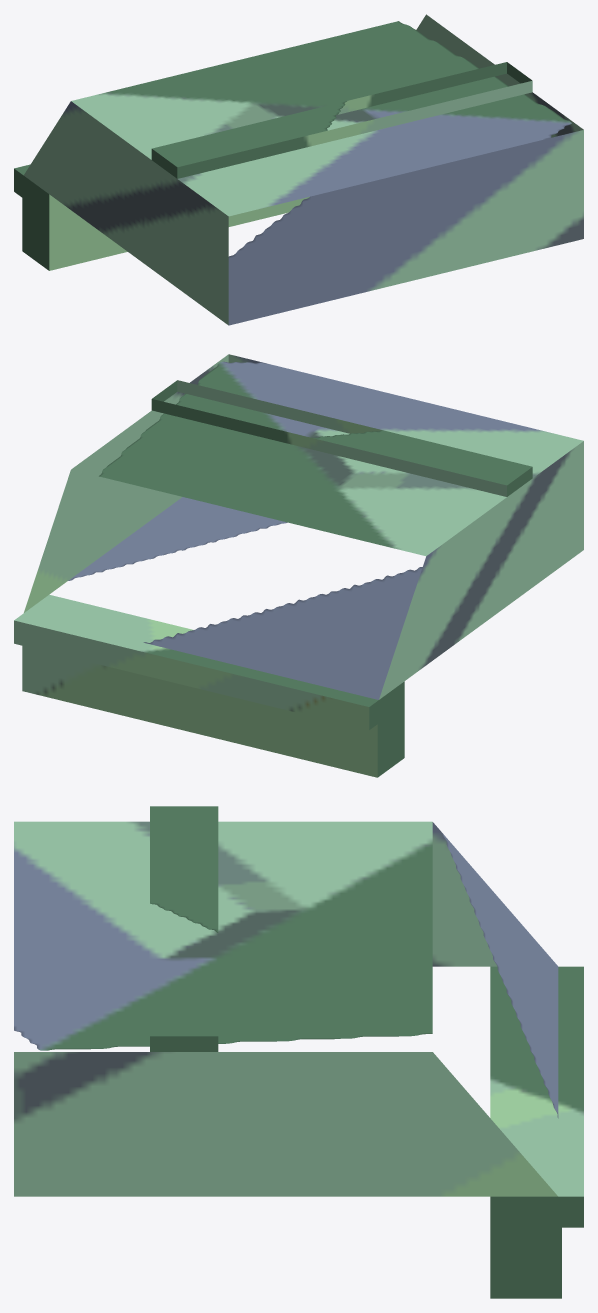
Rendered from ss3_carport.obj.
3 renders of one model, top to bottom at view 1: azimuth 30°, elevation 25°; view 2: azimuth 150°, elevation 25°; view 3: azimuth 270°, elevation 25°, orthographic. The views are drawn at different scales.
Parts seen in each view (by area): view 1: cuboid_selection_selection_selection_selection_selection_selecti; view 2: cuboid_selection_selection_selection_selection_selection_selecti; view 3: cuboid_selection_selection_selection_selection_selection_selecti.
Boxes of the visible parts, bbox=[...] form: cuboid_selection_selection_selection_selection_selection_selecti: bbox=[14, 14, 583, 325]; cuboid_selection_selection_selection_selection_selection_selecti: bbox=[14, 354, 583, 777]; cuboid_selection_selection_selection_selection_selection_selecti: bbox=[14, 806, 583, 1298].
Bounding box in the file's own units: 1 × 0.5313 × 1.05.
